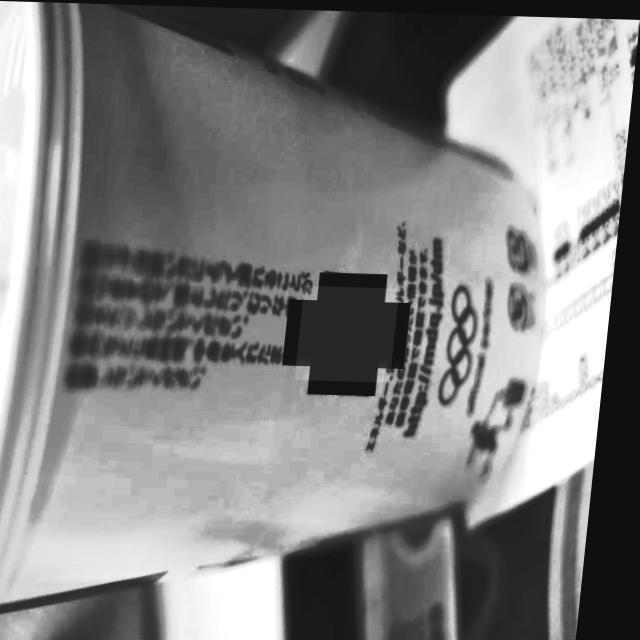qr_code: (303, 283, 406, 379)
